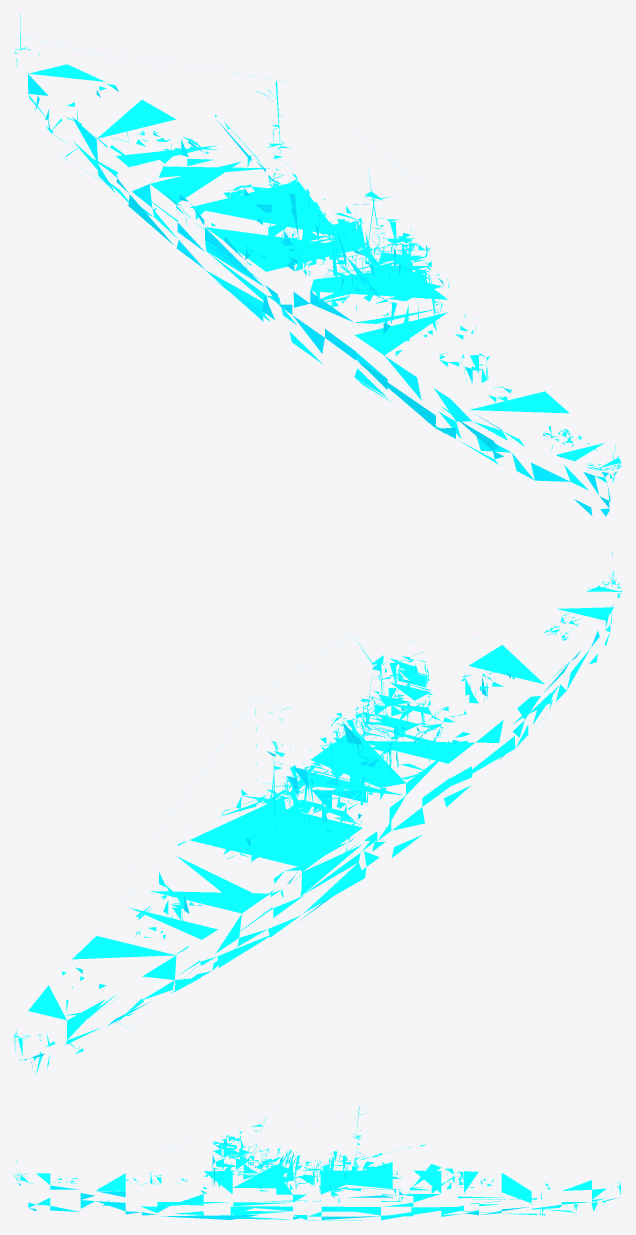
The model's file is Blue_Dragon.glb.
3 views of the same model, one above another, from view 1: azimuth 30°, elevation 25°; view 2: azimuth 150°, elevation 25°; view 3: azimuth 270°, elevation 25° (orthographic). The views are drawn at different scales.
Bounding box in the file's own units: 1.58 × 2.62 × 13.54.
